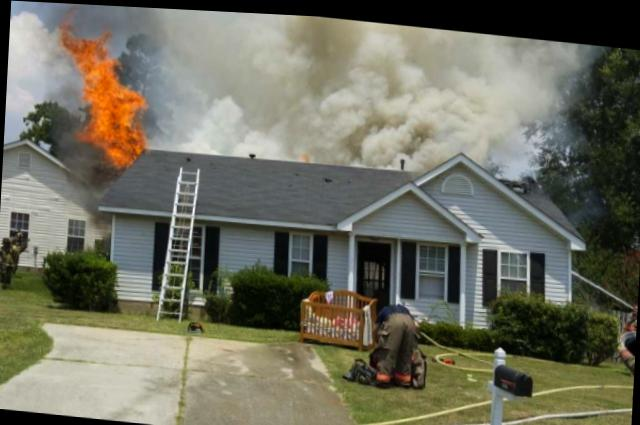fire: (35, 1, 184, 174)
